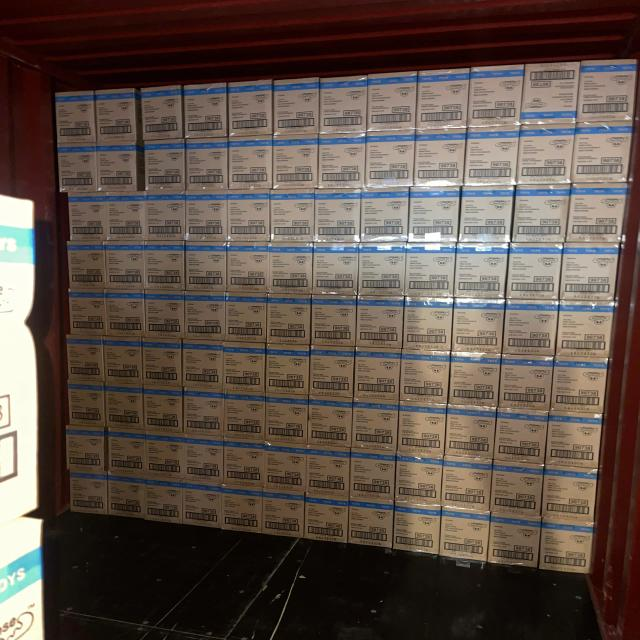Carton: (569, 121, 634, 183), (576, 58, 636, 123), (565, 182, 629, 242), (520, 60, 579, 125), (462, 124, 521, 187), (465, 63, 523, 127), (511, 183, 572, 242), (414, 66, 470, 130), (516, 124, 575, 184), (458, 184, 516, 244), (560, 242, 620, 300), (543, 473, 600, 531), (413, 126, 466, 188), (454, 242, 510, 300), (365, 70, 417, 132), (552, 359, 608, 416), (507, 242, 562, 298), (318, 74, 368, 134), (404, 242, 456, 299), (408, 186, 459, 244), (364, 131, 414, 190), (318, 132, 367, 192), (557, 310, 613, 362), (272, 77, 318, 140), (546, 419, 602, 470), (312, 188, 362, 245), (500, 361, 553, 414), (506, 306, 560, 358), (361, 186, 410, 243), (271, 132, 317, 192), (451, 301, 503, 354), (358, 242, 407, 298), (94, 86, 136, 151), (495, 415, 549, 465), (399, 406, 448, 461), (312, 242, 360, 298), (444, 411, 495, 463), (183, 82, 230, 138), (492, 470, 544, 520), (139, 84, 183, 143), (352, 349, 400, 403), (269, 188, 316, 243), (228, 80, 274, 136), (451, 358, 502, 408), (444, 463, 494, 514), (402, 304, 452, 355), (489, 520, 542, 568), (539, 526, 592, 574), (269, 241, 314, 297), (226, 134, 271, 190), (399, 354, 449, 404), (396, 462, 444, 514), (226, 187, 269, 244), (142, 138, 185, 195), (185, 188, 229, 243), (53, 90, 96, 146), (439, 514, 489, 562), (354, 298, 402, 348), (350, 457, 396, 508), (312, 349, 358, 400), (143, 238, 184, 295), (184, 239, 228, 292), (185, 137, 228, 191), (304, 454, 350, 504), (310, 298, 356, 348), (102, 191, 147, 242), (226, 240, 268, 294), (267, 295, 312, 345), (309, 399, 354, 449), (102, 239, 146, 290), (95, 140, 138, 192), (266, 348, 310, 398), (56, 141, 98, 193), (144, 190, 185, 243), (394, 510, 441, 556), (265, 398, 308, 448), (66, 192, 109, 242), (65, 239, 108, 289), (351, 406, 397, 452), (264, 446, 308, 494), (347, 505, 393, 550), (184, 345, 226, 394), (223, 296, 266, 343), (224, 444, 266, 492), (183, 442, 225, 490), (184, 396, 227, 442), (224, 350, 266, 397), (262, 496, 306, 540), (303, 501, 348, 544), (185, 297, 228, 342), (223, 398, 265, 444), (144, 299, 185, 344), (142, 344, 182, 390), (144, 394, 186, 437), (183, 488, 225, 531), (141, 482, 184, 524), (146, 438, 187, 482), (106, 436, 146, 480), (104, 391, 144, 434), (66, 431, 106, 474), (67, 340, 104, 386), (103, 344, 142, 387), (105, 296, 144, 339), (222, 494, 263, 534), (68, 389, 106, 432), (68, 296, 106, 337), (107, 478, 145, 518), (71, 477, 110, 515)
